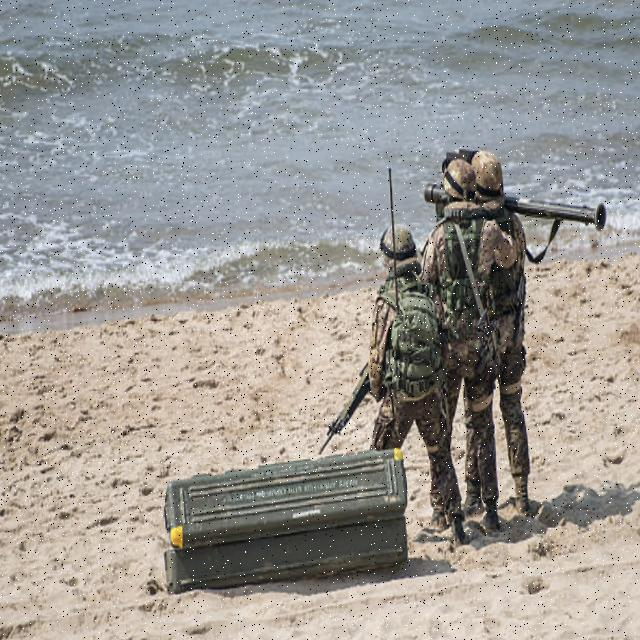bazooka: (422, 176, 612, 241)
